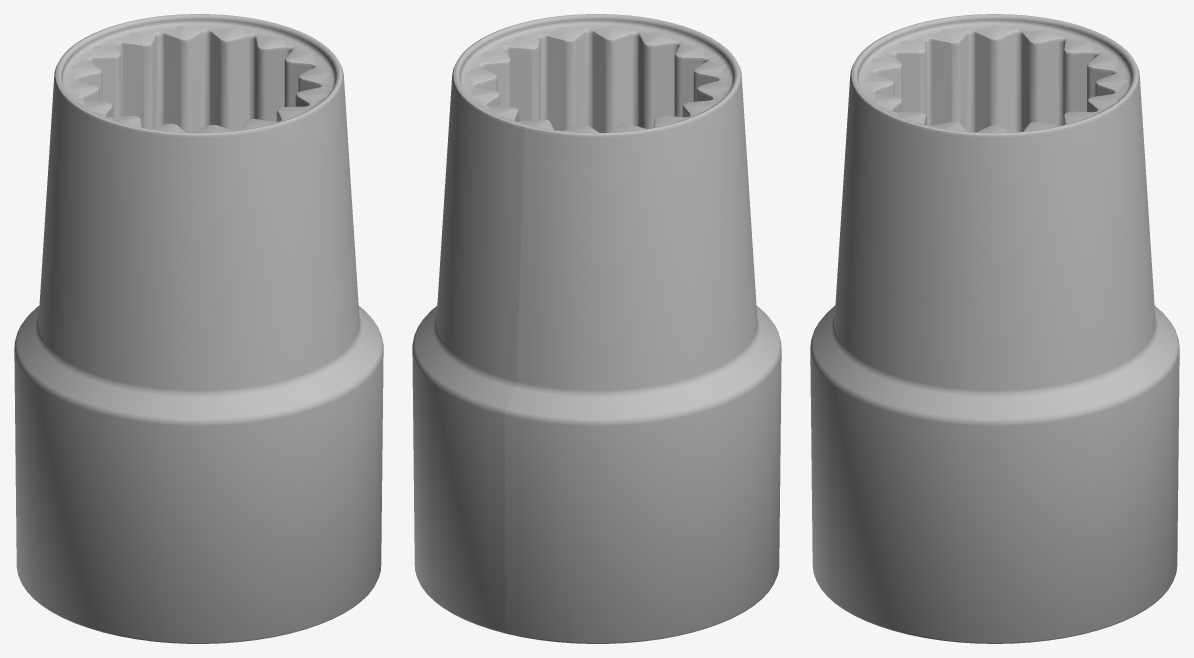
The model's file is handtool_socket_1_2in_a01.glb.
The picture shows the model from 3 angles, left to right: view 1: azimuth 30°, elevation 25°; view 2: azimuth 150°, elevation 25°; view 3: azimuth 270°, elevation 25°; orthographic projection.
Visible parts, largest first — view 1: part0; view 2: part0; view 3: part0.
Part boxes in pixels (bbox=[...]): part0: bbox=[14, 14, 383, 643]; part0: bbox=[412, 14, 781, 643]; part0: bbox=[810, 14, 1179, 643].
Size of the model in its own units: 0.0303 by 0.0448 by 0.0303.
1 material, 1 textured.
